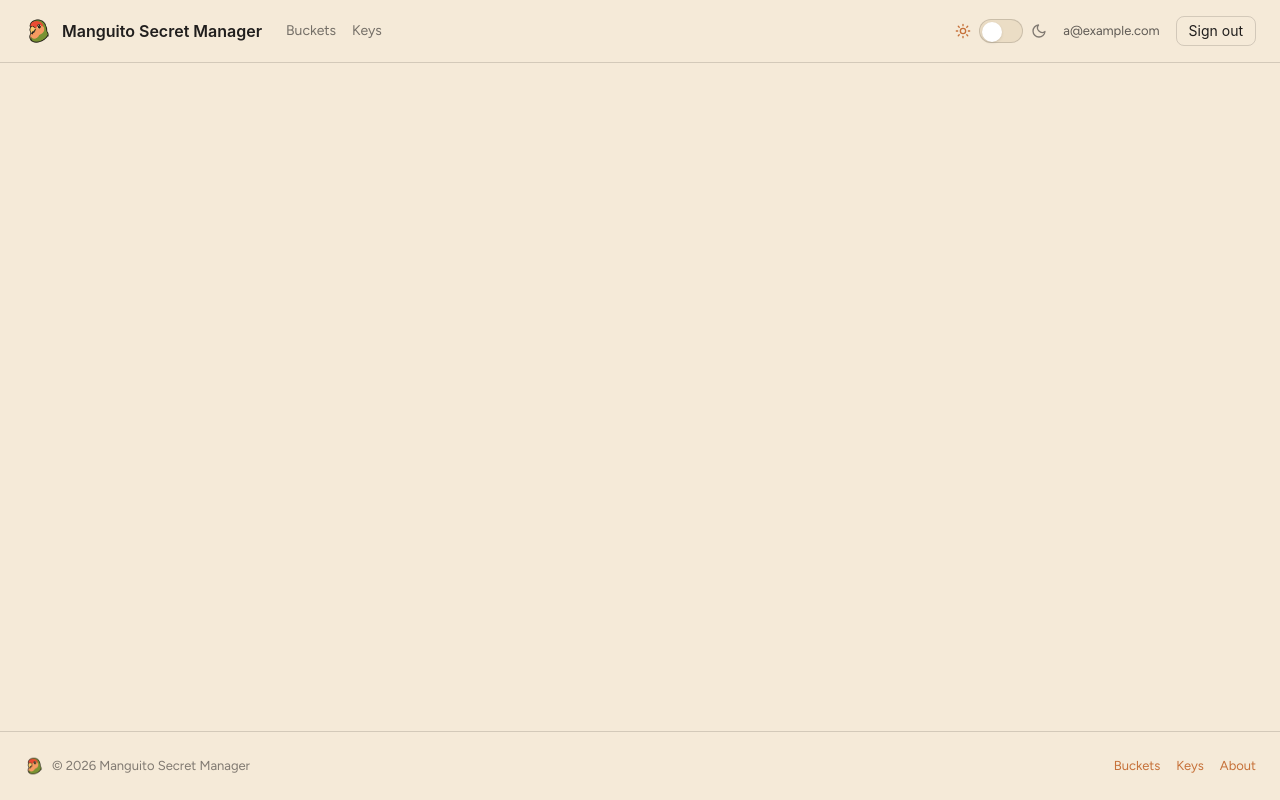
Test: AppShell › keeps the session and explains when sign out fails
Expected: the text "a@example.com" is shown, [1063,21,1160,41]
Step 1. Click the button "Sign out" → (1216, 31), box [1176,16,1256,46]
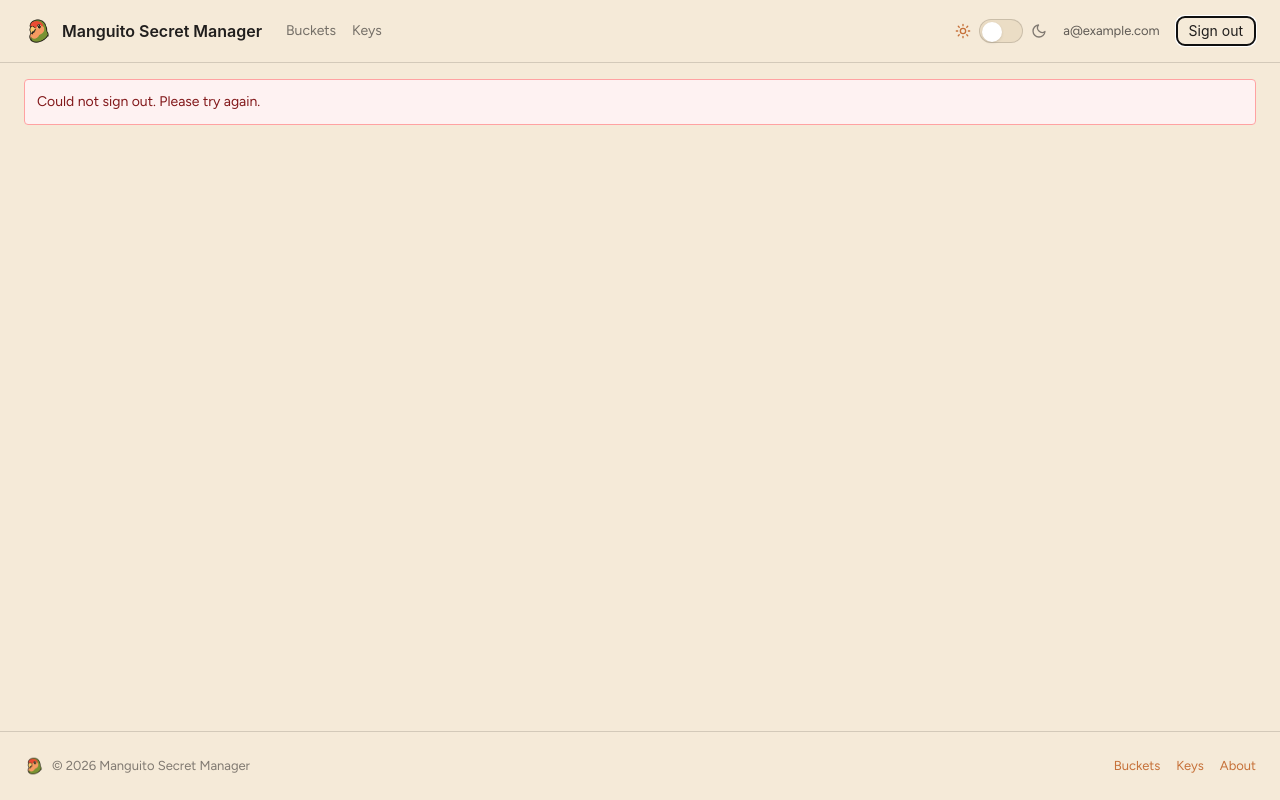
Expected: the message shows "Could not sign out", [37,93,260,110]
